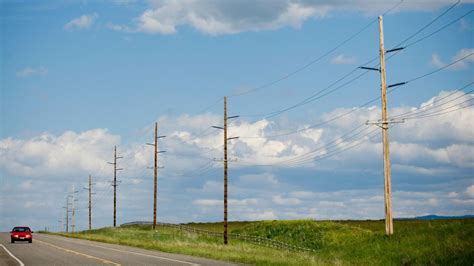pole: (205, 91, 253, 248)
